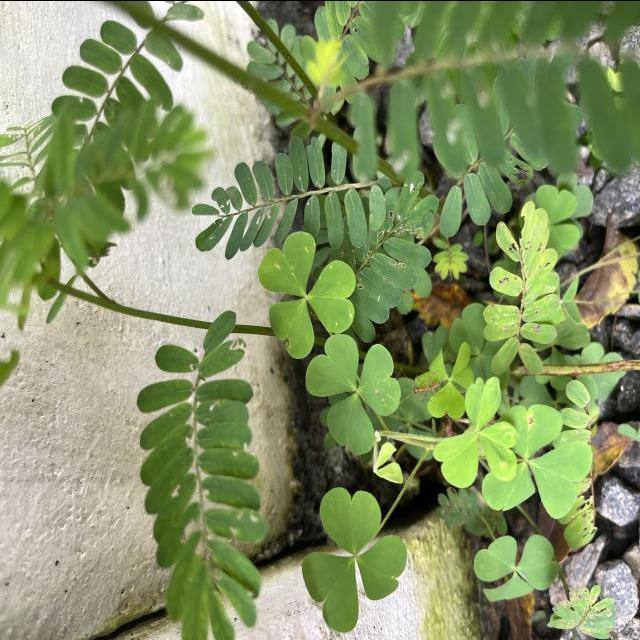Oxalis corniculata: (302, 484, 408, 632), (481, 402, 594, 520), (257, 230, 357, 360), (305, 332, 402, 456), (432, 374, 519, 488), (473, 532, 560, 602)
